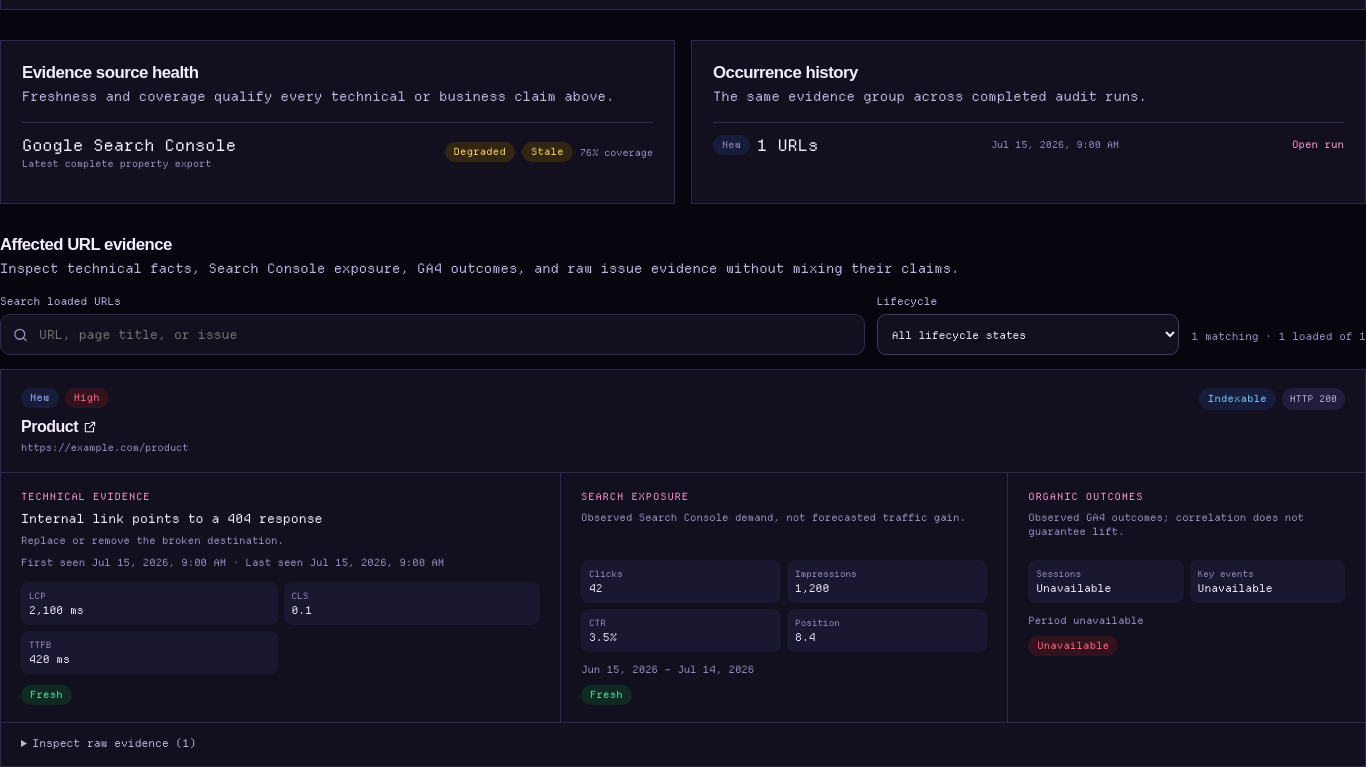
Action Evidence and Verification detail › separates technical evidence from business context and exposes reproducible scoring
The width and height of the screenshot is (1366, 767).
(page scrolled)
Expected: the text "Latest complete property export" is shown, x1=22 y1=157 x2=236 y2=170
Expected: the text "Internal link points to a 404 response" is shown, x1=21 y1=511 x2=322 y2=526
Click the heading "Inspect raw evidence (1)" at [114, 743], box x1=32 y1=736 x2=196 y2=750
(page scrolled)
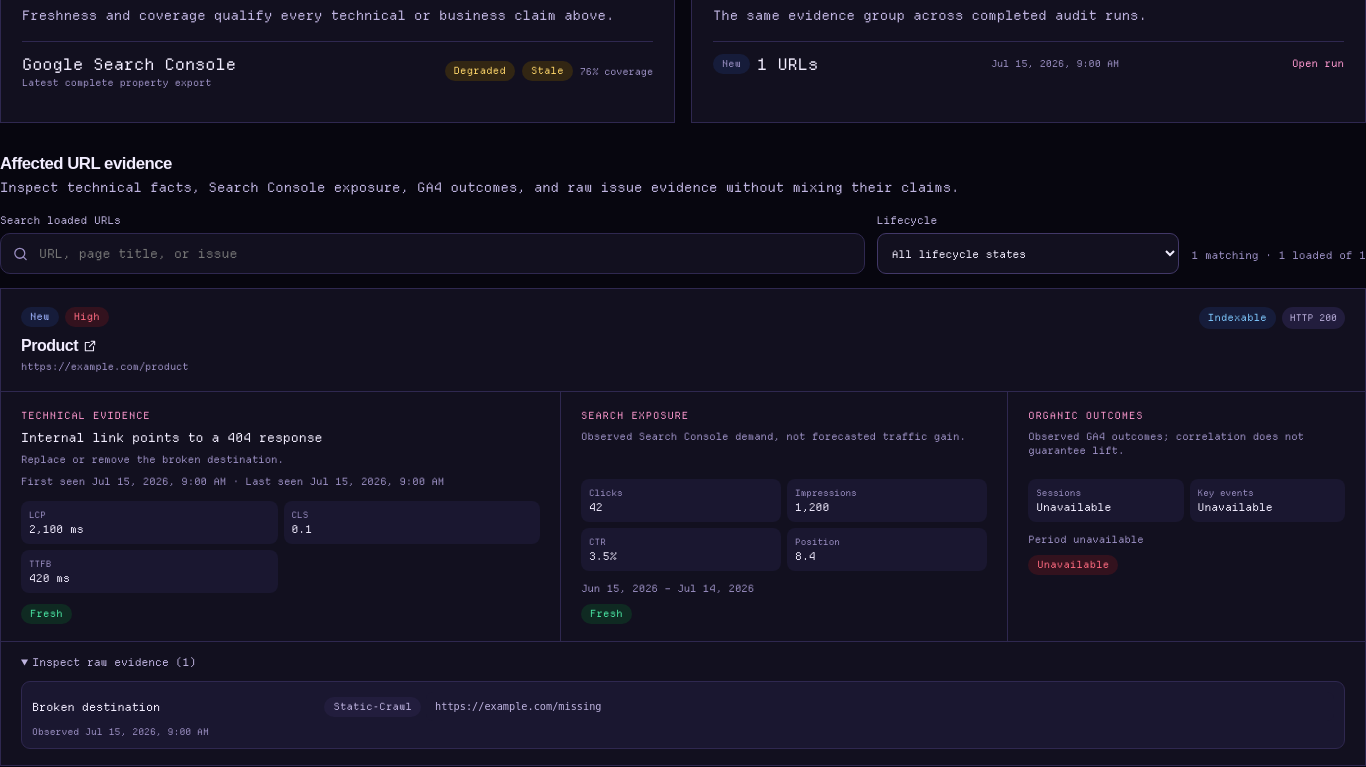
Result: the text "Broken destination" is shown at x1=32 y1=700 x2=160 y2=714
Result: the text "https://example.com/missing" is shown at x1=426 y1=692 x2=1334 y2=722
